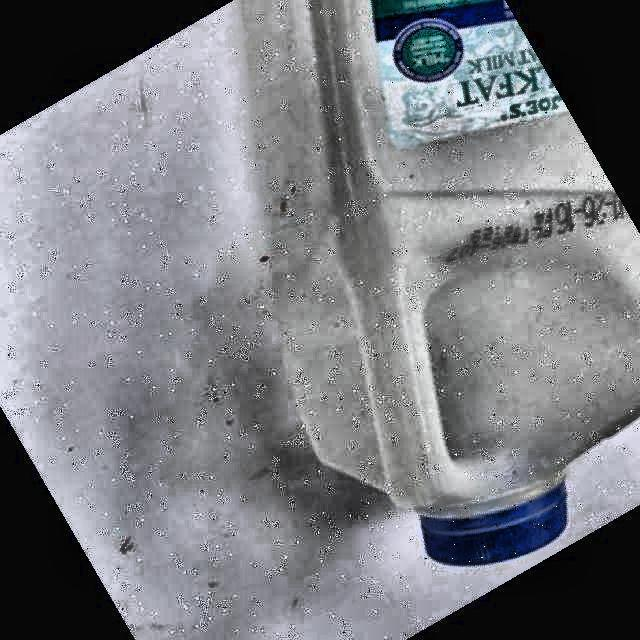plastic: (241, 0, 640, 566)
